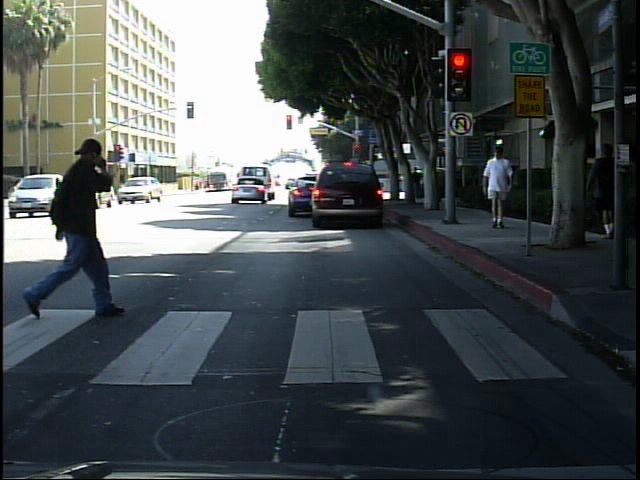person: (24, 125, 136, 339), (588, 137, 621, 246), (478, 145, 516, 233)
